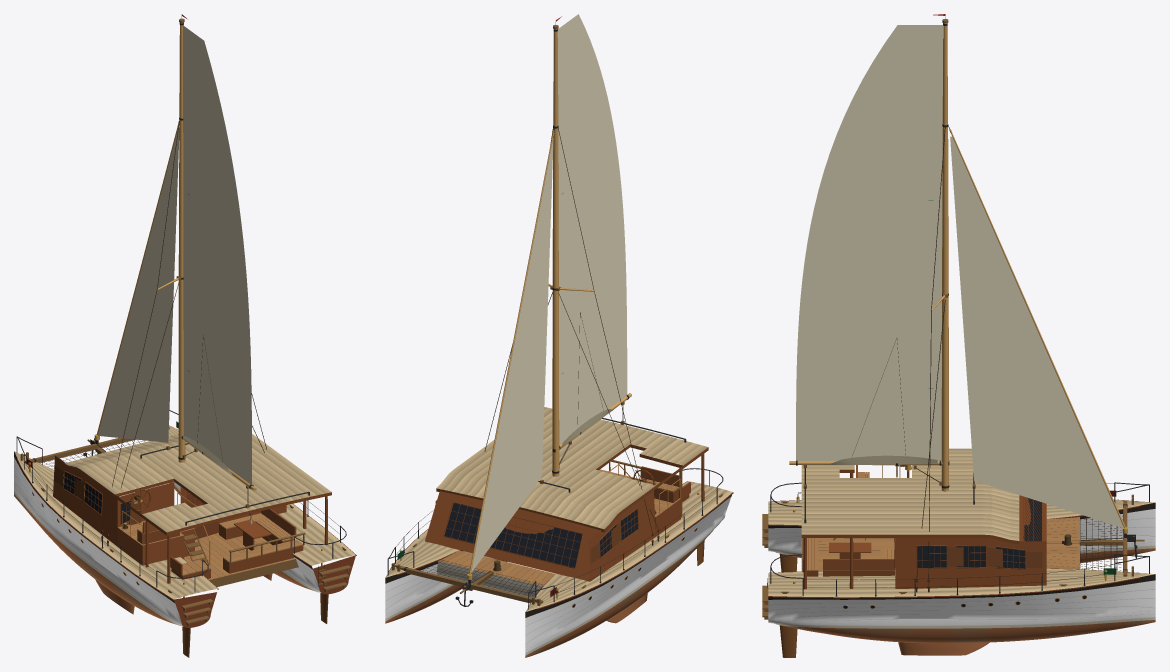
The model's file is catamaran.glb.
The picture shows the model from 3 angles, left to right: view 1: azimuth 30°, elevation 25°; view 2: azimuth 150°, elevation 25°; view 3: azimuth 270°, elevation 25°; orthographic projection. The views are drawn at different scales.
Visible parts, largest first — view 1: hull, sail, jib, mast, boom; view 2: hull, sail, jib, mast, boom; view 3: hull, sail, jib, mast, boom, daggerboard.
Part boxes in pixels (x1,y1,x2,y2): hull: (14,410,356,627); sail: (183,25,251,484); jib: (98,127,179,442); mast: (94,14,266,546); boom: (181,334,256,491); hull: (385,405,733,657); sail: (557,14,627,444); jib: (471,139,553,572); mast: (467,20,659,583); boom: (552,312,631,452); hull: (762,448,1155,643); sail: (796,25,942,461); jib: (950,136,1124,528); mast: (915,14,1127,592); boom: (789,338,949,465); daggerboard: (898,642,989,655).
Bounding box in the file's own units: 7.76 × 22.18 × 13.
